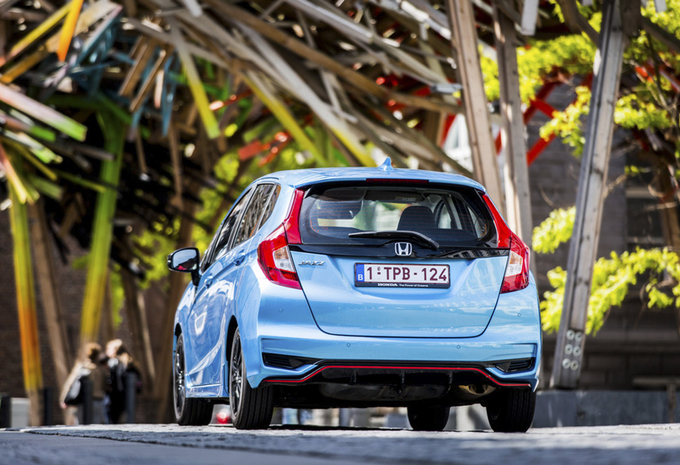licenceplate: (353, 262, 450, 286)
